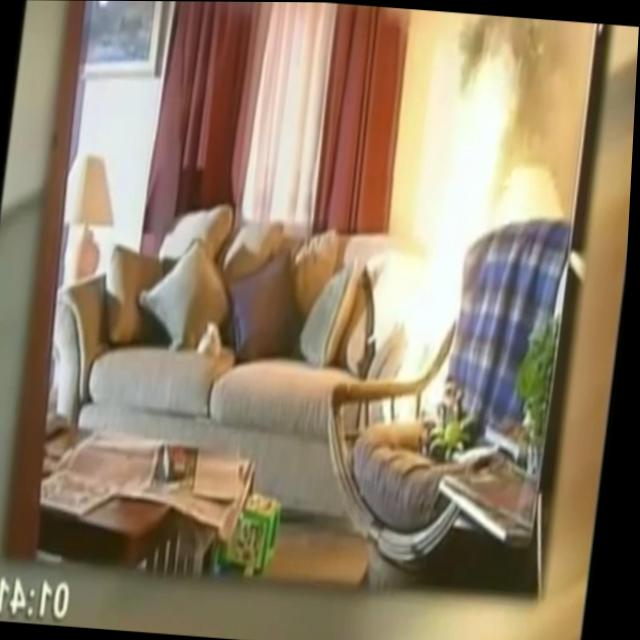fire: (375, 14, 537, 427)
